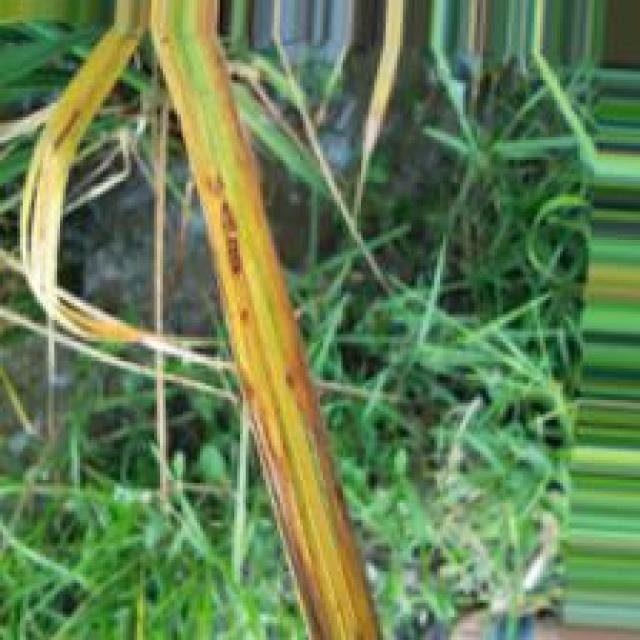Bacterial_Leaf_Blight: (155, 34, 363, 640), (197, 35, 384, 640)
